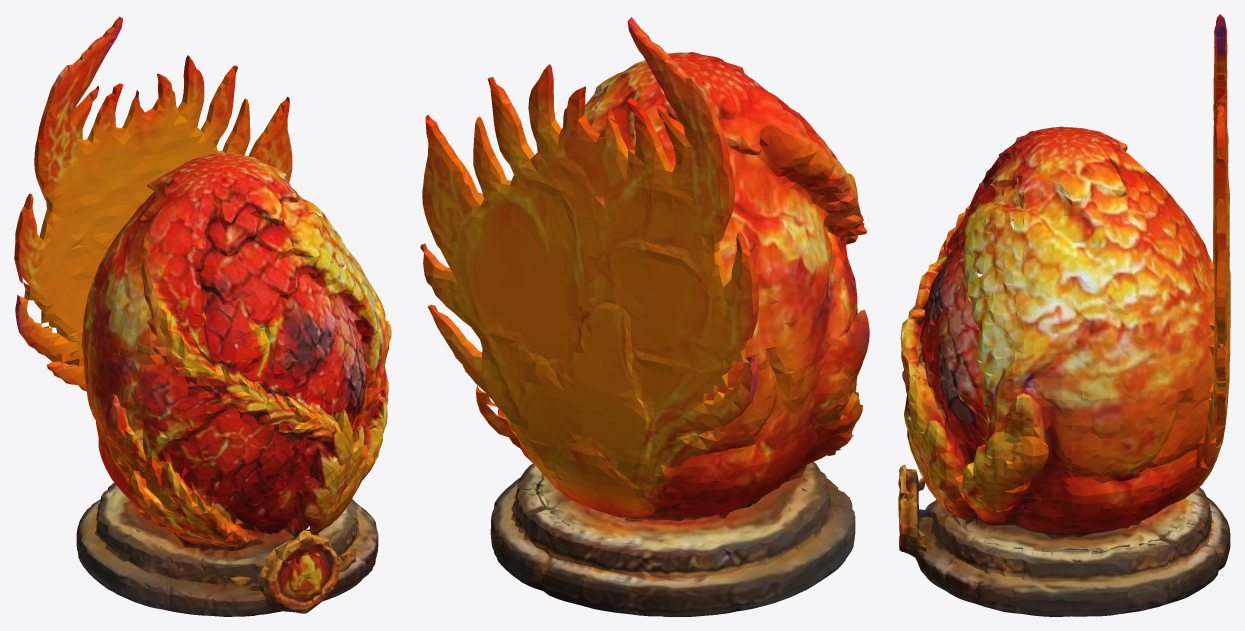
Rendered from ovo_incendyr.glb.
3 views of the same model, side by side, from view 1: azimuth 30°, elevation 25°; view 2: azimuth 150°, elevation 25°; view 3: azimuth 270°, elevation 25° (orthographic). The views are drawn at different scales.
Parts seen in each view (by area): view 1: plush; view 2: plush; view 3: plush.
Part boxes in pixels (left/top/right/bottom): plush: left=14, top=16, right=391, bottom=616; plush: left=420, top=17, right=869, bottom=616; plush: left=898, top=14, right=1230, bottom=616.
Bounding box in the file's own units: 0.5719 × 0.9763 × 0.5625.
1 material, 1 textured.
